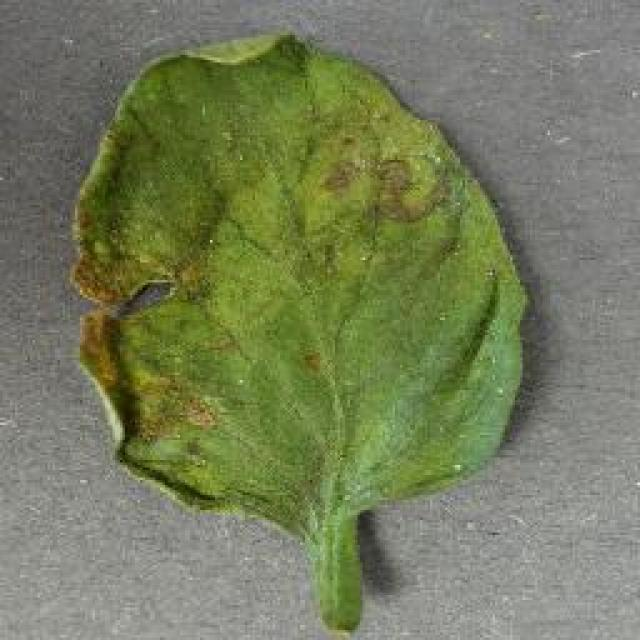Tomato bacterial spot leaf: (64, 36, 534, 622)
